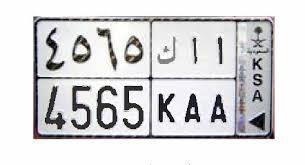4: (44, 27, 67, 131)
5: (123, 34, 145, 130), (71, 35, 91, 130)
6: (96, 27, 120, 130)
A: (184, 38, 201, 123), (211, 36, 227, 124)
K: (156, 36, 176, 123)
